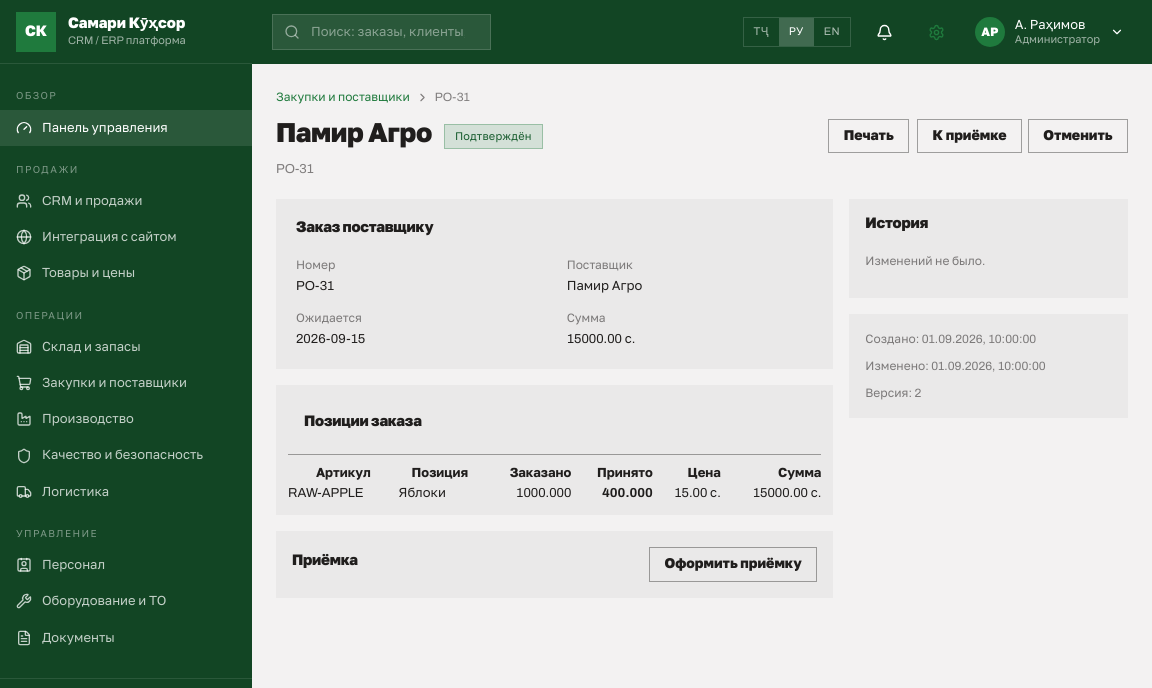
Test: Закупки — purchase order detail › refuses to submit a receipt with no quantities
Check: the element with test id "detail-view" is shown, box top-left (276, 88), bottom-right (1128, 598)
Click the button with test id "toggle-receipt" at (733, 565), box top-left (649, 547), bottom-right (817, 582)
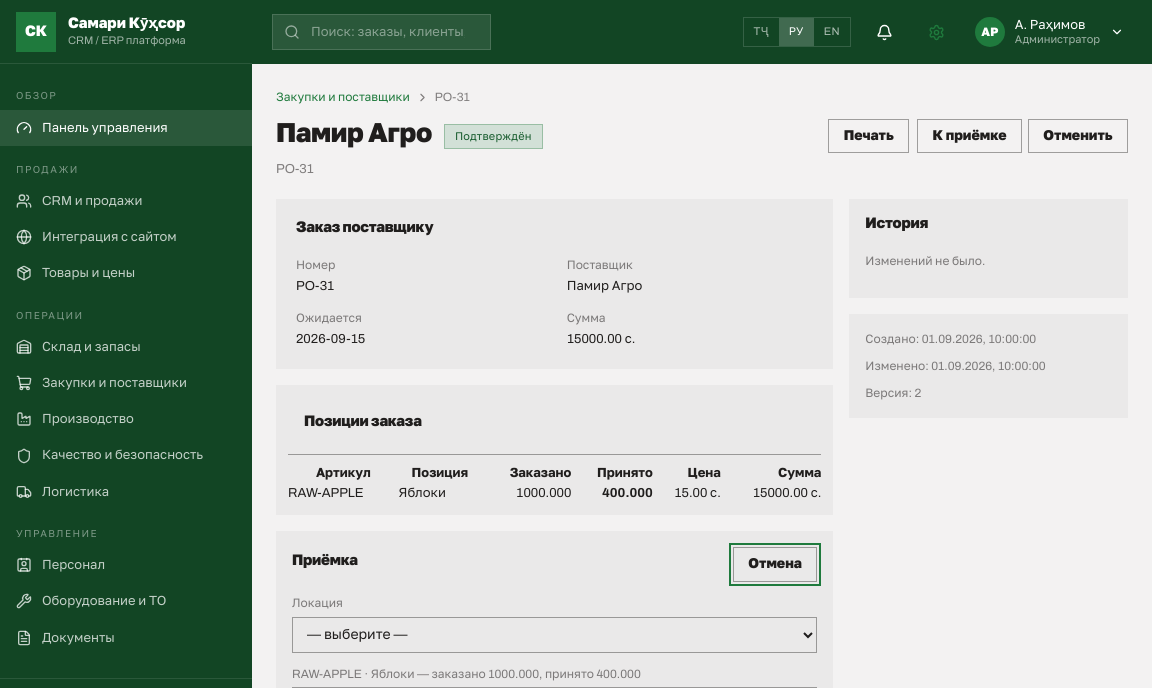
Select "RM-01 · Сырьё" in the dropdown labelled "Локация" at (555, 635), box top-left (292, 617), bottom-right (817, 653)
(page scrolled)
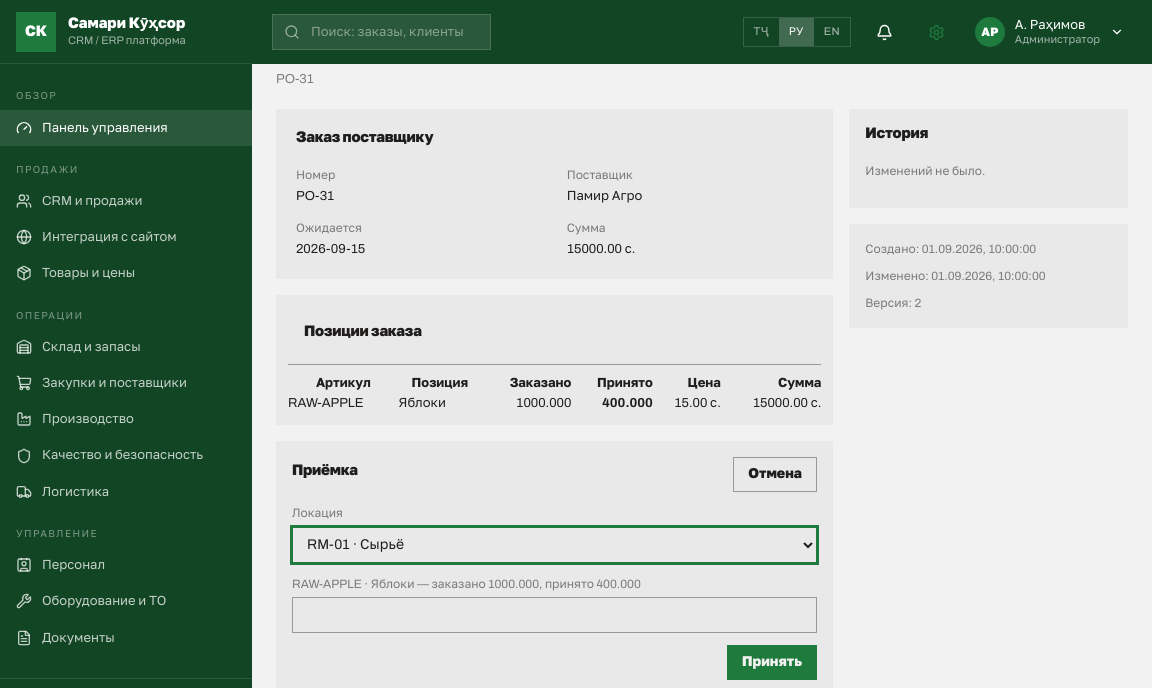
Click the button with test id "save-receipt" at (772, 663), box top-left (727, 645), bottom-right (817, 680)
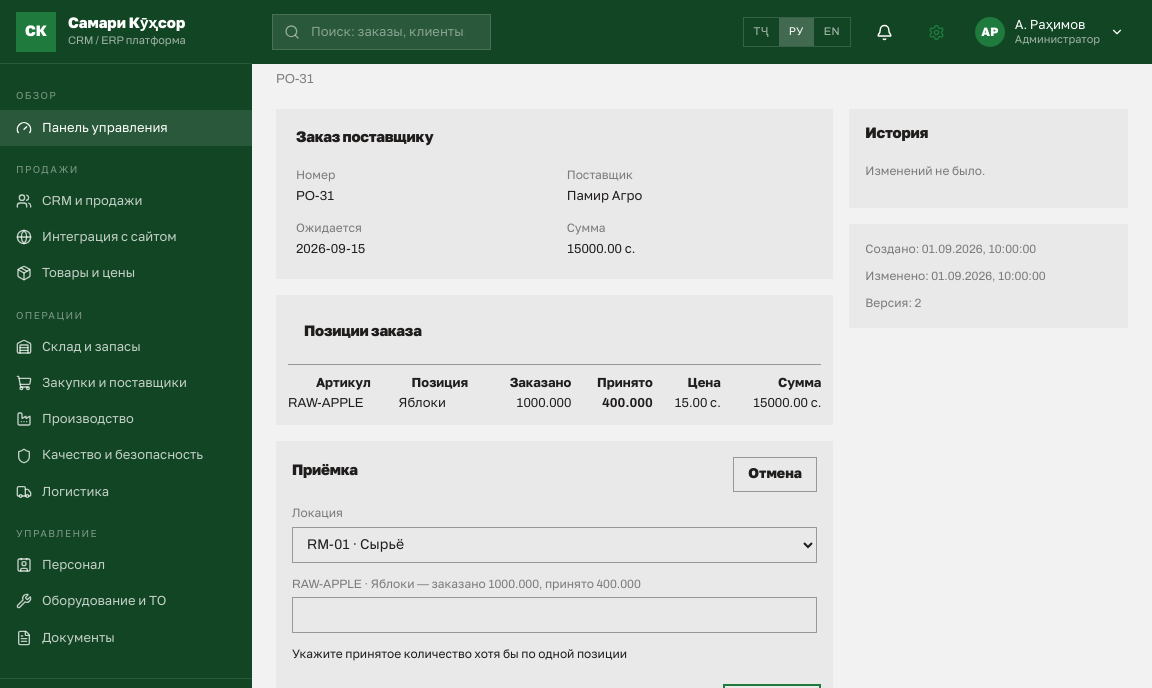
Check: the message with test id "receipt-error" shows "хотя бы по одной позиции", box top-left (292, 647), bottom-right (627, 661)
